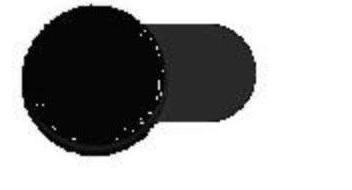Switch: (1, 1, 351, 189)
